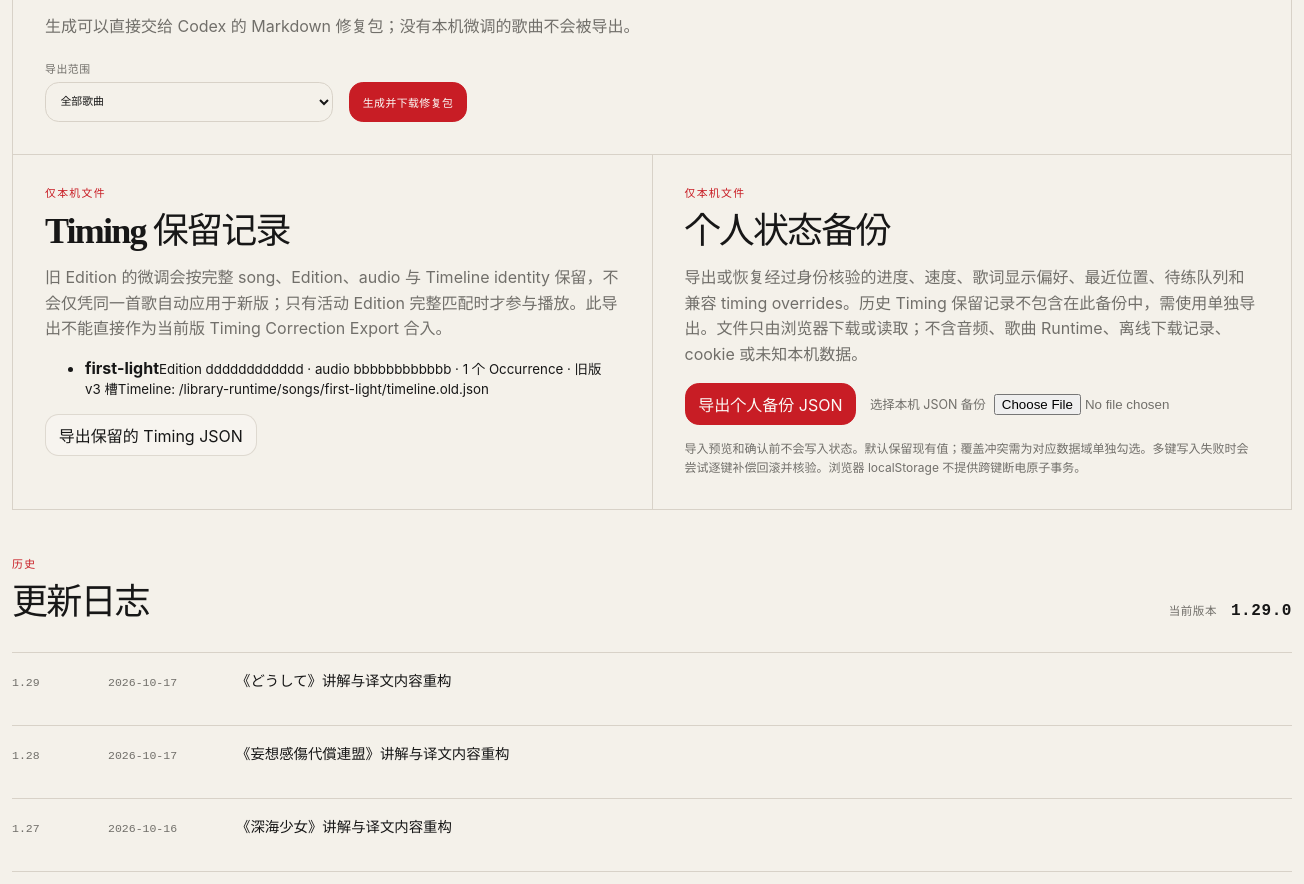
SettingsPage › shows and exports an old identity record independently of the current Edition
(page scrolled)
expect the heading "Timing 保留记录" is shown: met, box [45, 211, 290, 251]
expect the text "Edition dddddddddddd" is shown: met, box [85, 361, 601, 397]
Click the button "导出保留的 Timing JSON" at (151, 435), box [45, 414, 257, 456]
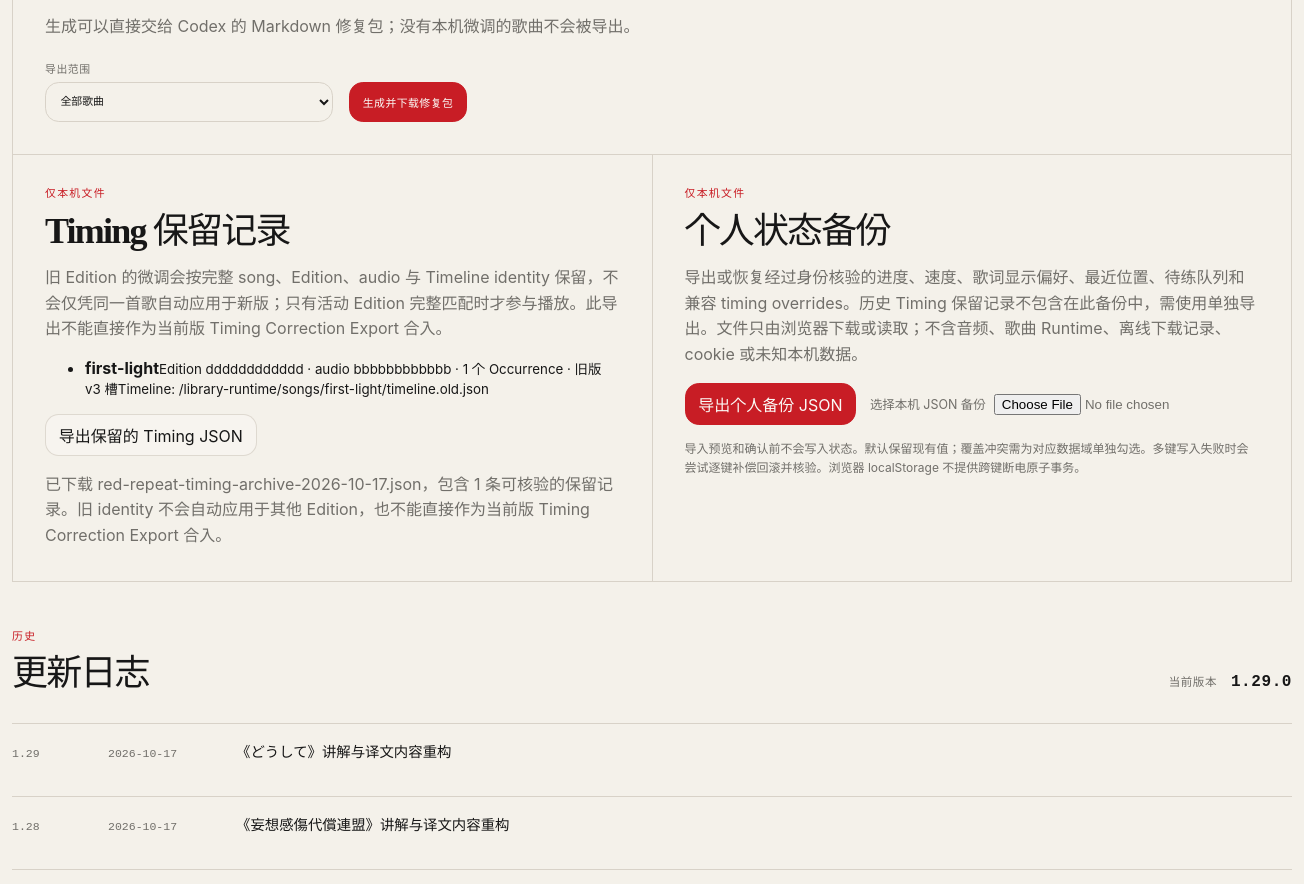
expect the text "包含 1 条可核验的保留记录" is shown: met, box [45, 474, 613, 545]
